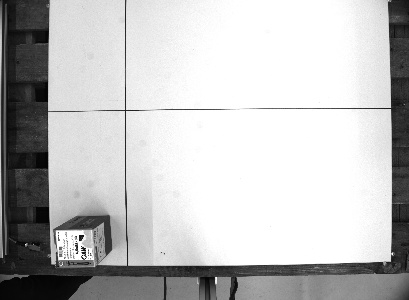b4: (51, 211, 115, 270)
